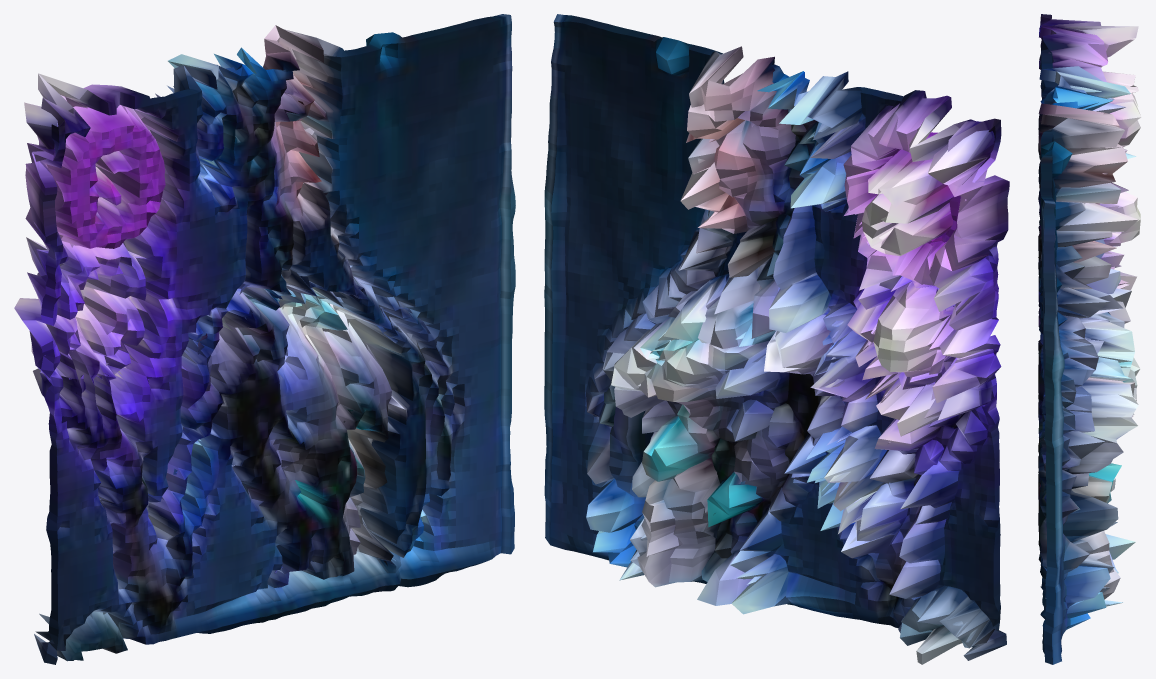
The model's file is nova-psi-relief.glb.
3 renders of one model, left to right at view 1: azimuth 30°, elevation 25°; view 2: azimuth 150°, elevation 25°; view 3: azimuth 270°, elevation 25°, orthographic. The views are drawn at different scales.
Visible parts, largest first — view 1: RELIEF_REFERENCE_nova-psi; view 2: RELIEF_REFERENCE_nova-psi; view 3: RELIEF_REFERENCE_nova-psi.
Boxes of the visible parts, x1=… form: RELIEF_REFERENCE_nova-psi: x1=14, y1=14, x2=515, y2=664; RELIEF_REFERENCE_nova-psi: x1=544, y1=14, x2=1009, y2=664; RELIEF_REFERENCE_nova-psi: x1=1038, y1=14, x2=1141, y2=664.
Size of the model in its own units: 3.13 by 3.54 by 0.693.
1 material, 1 textured.
